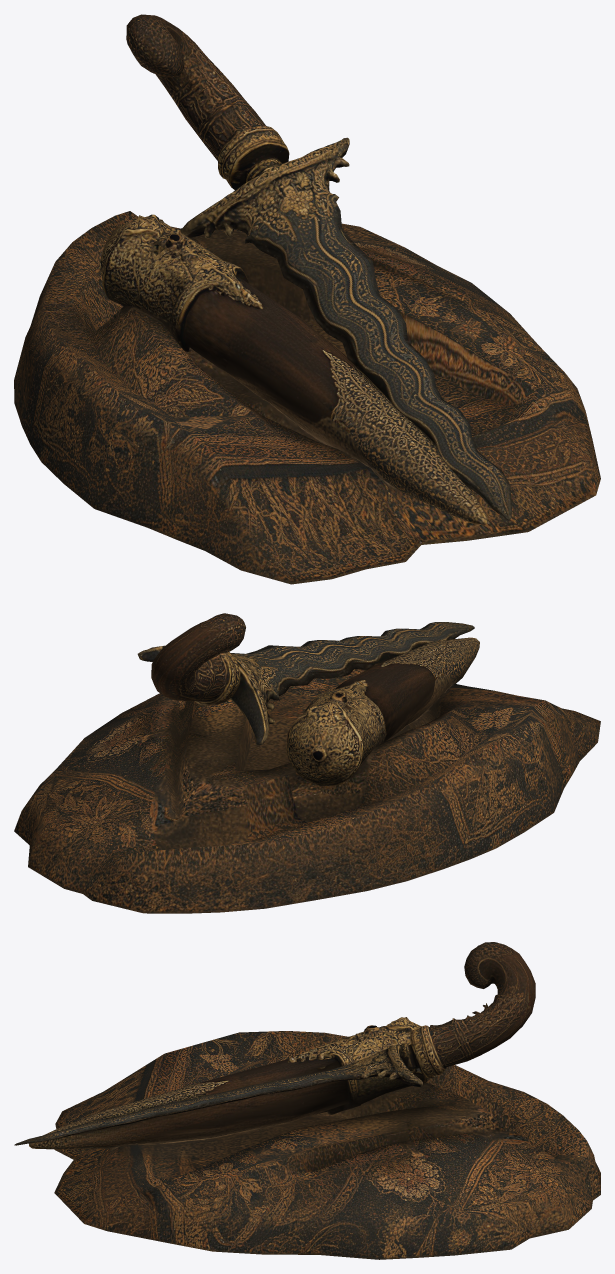
The model's file is apa-itu-dinamisme.glb.
3 renders of one model, top to bottom at view 1: azimuth 30°, elevation 25°; view 2: azimuth 150°, elevation 25°; view 3: azimuth 270°, elevation 25°, orthographic. The views are drawn at different scales.
Visible parts, largest first — view 1: tripo_node_6e842614-012e-499e-bf31-8c2534f0951b; view 2: tripo_node_6e842614-012e-499e-bf31-8c2534f0951b; view 3: tripo_node_6e842614-012e-499e-bf31-8c2534f0951b.
Boxes of the visible parts, x1=… form: tripo_node_6e842614-012e-499e-bf31-8c2534f0951b: x1=14, y1=14, x2=600, y2=584; tripo_node_6e842614-012e-499e-bf31-8c2534f0951b: x1=14, y1=613, x2=600, y2=913; tripo_node_6e842614-012e-499e-bf31-8c2534f0951b: x1=14, y1=942, x2=600, y2=1259.
Bounding box in the file's own units: 0.6973 × 0.416 × 0.998.
Materials: 1 (1 with a texture image).
